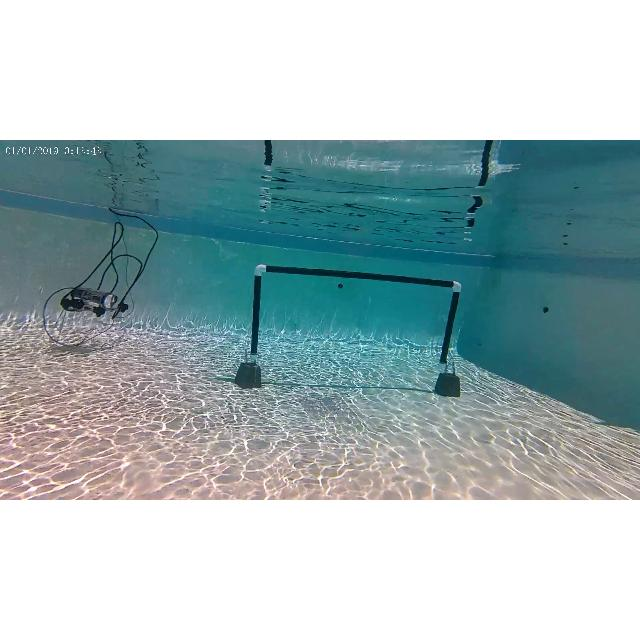prequal gate: (252, 264, 464, 372)
prequal gate leg l: (235, 262, 265, 390)
prequal gate leg r: (435, 278, 467, 400)
